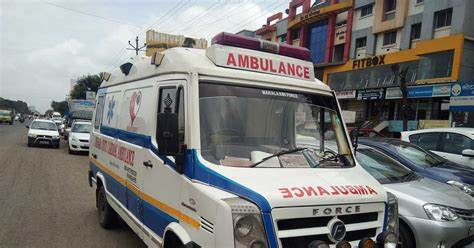ambulance: (77, 30, 401, 245)
